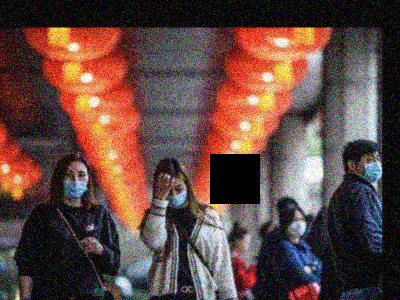with_mask: (60, 166, 90, 201), (357, 151, 382, 184), (162, 182, 188, 209), (287, 216, 308, 239)
